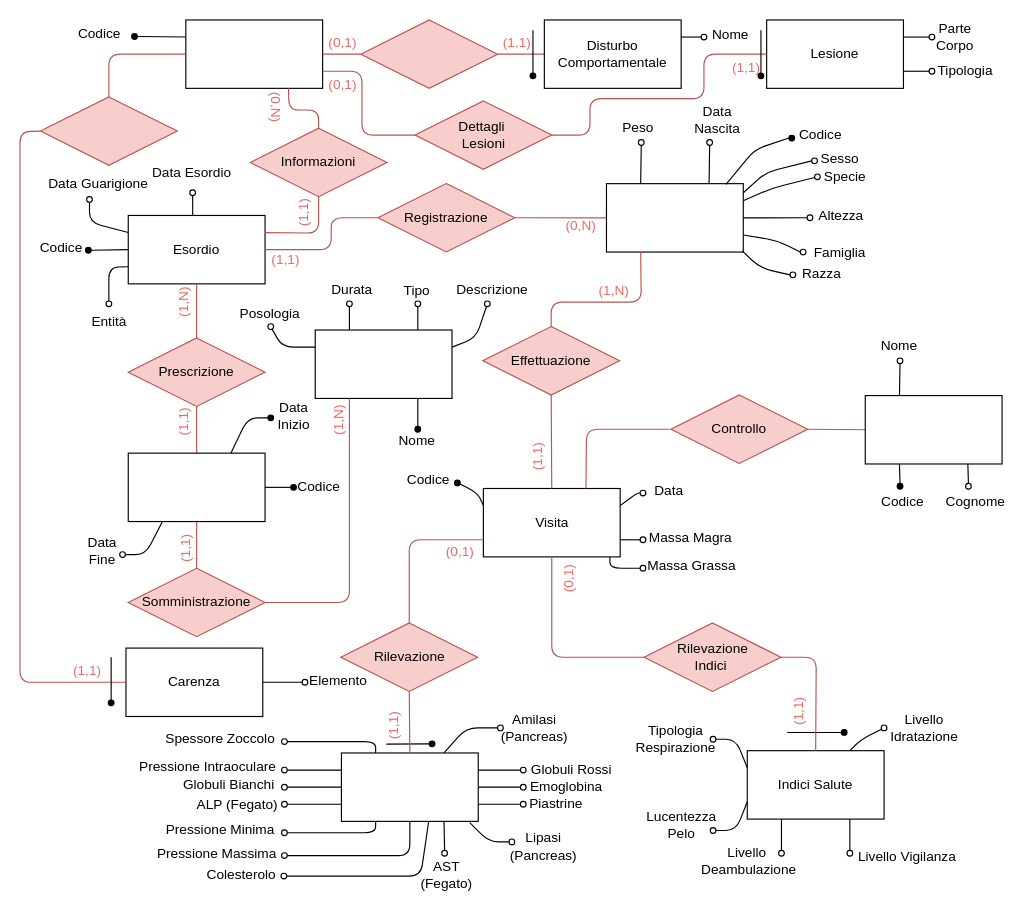
Some shapes in this 1025 by 911 pixel diagram are drawn without their labels. Each missing label, with the centre of its shape:
Animale: point 674,217
Dettagli Carenze: point 108,130
Dettagli Disturbi: point 429,53
Indicatori Oggettivi: point 409,786
Patologia: point 254,53
Rimedio: point 383,363
Terapia: point 196,487
Veterinario: point 933,429
